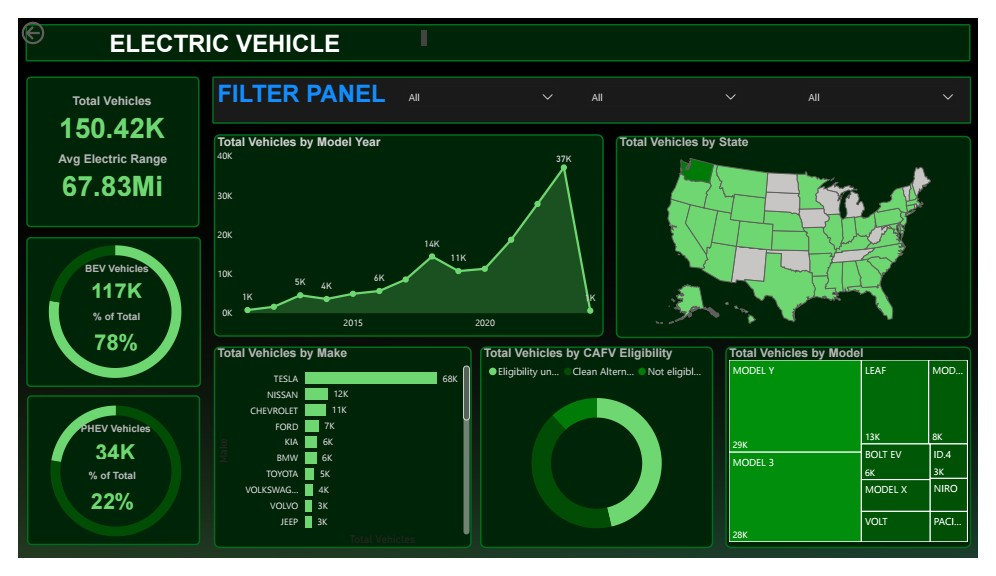

What the dashboard file says about the page in this screenshot:
{"tool":"powerbi","page":{"name":"Page 1","canvas":[1280,720],"ordinal":0},"visuals":[{"type":"shape","box":[9.9,8.2,1260.1,50.2],"z":0},{"type":"textbox","box":[9.9,10.7,539.9,46.1],"z":1000},{"type":"shape","box":[10.9,78.4,230.7,200.3],"z":2000},{"type":"cardVisual","title":"Total Vehicles","fields":{"Data":["Electric_Vehicle_Population_Data.Total Vehicles"]},"box":[19.6,102.3,211.2,76.2],"z":3000},{"type":"actionButton","box":[0,0,100,40],"z":4000},{"type":"cardVisual","title":"Avg Electric Range","fields":{"Data":["Electric_Vehicle_Population_Data.Avg Range"]},"box":[23.9,178.5,204.6,76.2],"z":5000},{"type":"shape","box":[10.9,291.7,232.9,200.3],"z":6000},{"type":"shape","box":[11.6,503.3,231.3,199.3],"z":7000},{"type":"donutChart","fields":{"Category":["Electric_Vehicle_Population_Data.Electric Vehicle Type"],"Y":["Electric_Vehicle_Population_Data.Total Vehicles"]},"box":[0,276.5,259,230.7],"z":8000},{"type":"cardVisual","title":"BEV Vehicles","fields":{"Data":["Electric_Vehicle_Population_Data.BEV Vehicles"]},"box":[64.5,326.1,134.3,64.5],"z":9000},{"type":"cardVisual","title":"% of Total","fields":{"Data":["Electric_Vehicle_Population_Data.% of BEV"]},"box":[45.3,390.6,172.6,71.5],"z":10000},{"type":"donutChart","fields":{"Category":["Electric_Vehicle_Population_Data.Electric Vehicle Type"],"Y":["Electric_Vehicle_Population_Data.Total Vehicles"]},"box":[0,489.8,261.2,228.6],"z":11000},{"type":"cardVisual","title":"PHEV Vehicles","fields":{"Data":["Electric_Vehicle_Population_Data.PHEV Vehicles"]},"box":[63.1,539.9,135,65.3],"z":12000},{"type":"cardVisual","title":"% of Total","fields":{"Data":["Electric_Vehicle_Population_Data.% of PHEV"]},"box":[39.2,603,174.1,71.8],"z":13000},{"type":"shape","box":[259,78.4,1012.2,63.1],"z":14000},{"type":"shape","box":[261.2,154.6,520,270],"z":15000},{"type":"areaChart","fields":{"Category":["Electric_Vehicle_Population_Data.Model Year"],"Y":["Electric_Vehicle_Population_Data.Total Vehicles"]},"box":[261.2,156.7,520.3,267.8],"z":16000},{"type":"shape","box":[796.7,156.7,474.6,269.9],"z":17000},{"type":"shapeMap","fields":{"Category":["Electric_Vehicle_Population_Data.State"],"Value":["Electric_Vehicle_Population_Data.Total Vehicles"]},"box":[796.7,156.7,474.6,267.8],"z":18000},{"type":"shape","box":[261.2,437.6,343.9,269.9],"z":19000},{"type":"barChart","fields":{"Y":["Electric_Vehicle_Population_Data.Total Vehicles"],"Category":["Electric_Vehicle_Population_Data.Make"]},"box":[261.2,437.6,346.1,269.9],"z":20000},{"type":"shape","box":[616.1,437.6,311.3,269.9],"z":21000},{"type":"donutChart","title":"Total Vehicles by CAFV Eligibility","fields":{"Y":["Electric_Vehicle_Population_Data.Total Vehicles"],"Category":["Electric_Vehicle_Population_Data.Clean Alternative Fuel Vehicle (CAFV) Eligibility"]},"box":[616.1,437.6,311.3,269.9],"z":22000},{"type":"shape","box":[942.6,437.6,328.7,269.9],"z":23000},{"type":"treemap","fields":{"Group":["Electric_Vehicle_Population_Data.Model"],"Values":["Electric_Vehicle_Population_Data.Total Vehicles"]},"box":[942.6,437.6,328.7,265.6],"z":24000},{"type":"textbox","box":[261.2,78.4,243.8,63.1],"z":25000},{"type":"slicer","fields":{"Values":["Electric_Vehicle_Population_Data.City"]},"box":[505,80.5,224.2,61],"z":26000},{"type":"slicer","fields":{"Values":["Electric_Vehicle_Population_Data.Electric Utility"]},"box":[748.8,80.5,224.2,61],"z":27000},{"type":"slicer","fields":{"Values":["Electric_Vehicle_Population_Data.Electric Vehicle Type"]},"box":[1038.4,80.5,224.2,61],"z":27001}]}

Visuals, with their boxes in screenshot pixels (x1, y1, x2, y2), scaled from the page's 1280x720 canvas onto the 996x576 screenshot:
shape: x1=8, y1=7, x2=988, y2=47
textbox: x1=8, y1=9, x2=428, y2=45
shape: x1=8, y1=63, x2=188, y2=223
"Total Vehicles" cardVisual: x1=15, y1=82, x2=180, y2=143
actionButton: x1=0, y1=0, x2=78, y2=32
"Avg Electric Range" cardVisual: x1=19, y1=143, x2=178, y2=204
shape: x1=8, y1=233, x2=190, y2=394
shape: x1=9, y1=403, x2=189, y2=562
donutChart - Electric_Vehicle_Population_Data.Electric Vehicle Type x Electric_Vehicle_Population_Data.Total Vehicles: x1=0, y1=221, x2=202, y2=406
"BEV Vehicles" cardVisual: x1=50, y1=261, x2=155, y2=312
"% of Total" cardVisual: x1=35, y1=312, x2=170, y2=370
donutChart - Electric_Vehicle_Population_Data.Electric Vehicle Type x Electric_Vehicle_Population_Data.Total Vehicles: x1=0, y1=392, x2=203, y2=575
"PHEV Vehicles" cardVisual: x1=49, y1=432, x2=154, y2=484
"% of Total" cardVisual: x1=31, y1=482, x2=166, y2=540
shape: x1=202, y1=63, x2=989, y2=113
shape: x1=203, y1=124, x2=608, y2=340
areaChart - Electric_Vehicle_Population_Data.Model Year x Electric_Vehicle_Population_Data.Total Vehicles: x1=203, y1=125, x2=608, y2=340
shape: x1=620, y1=125, x2=989, y2=341
shapeMap - Electric_Vehicle_Population_Data.State x Electric_Vehicle_Population_Data.Total Vehicles: x1=620, y1=125, x2=989, y2=340
shape: x1=203, y1=350, x2=471, y2=566
barChart - Electric_Vehicle_Population_Data.Total Vehicles x Electric_Vehicle_Population_Data.Make: x1=203, y1=350, x2=473, y2=566
shape: x1=479, y1=350, x2=722, y2=566
"Total Vehicles by CAFV Eligibility" donutChart: x1=479, y1=350, x2=722, y2=566
shape: x1=733, y1=350, x2=989, y2=566
treemap - Electric_Vehicle_Population_Data.Model x Electric_Vehicle_Population_Data.Total Vehicles: x1=733, y1=350, x2=989, y2=563
textbox: x1=203, y1=63, x2=393, y2=113
slicer - Electric_Vehicle_Population_Data.City: x1=393, y1=64, x2=567, y2=113
slicer - Electric_Vehicle_Population_Data.Electric Utility: x1=583, y1=64, x2=757, y2=113
slicer - Electric_Vehicle_Population_Data.Electric Vehicle Type: x1=808, y1=64, x2=982, y2=113
